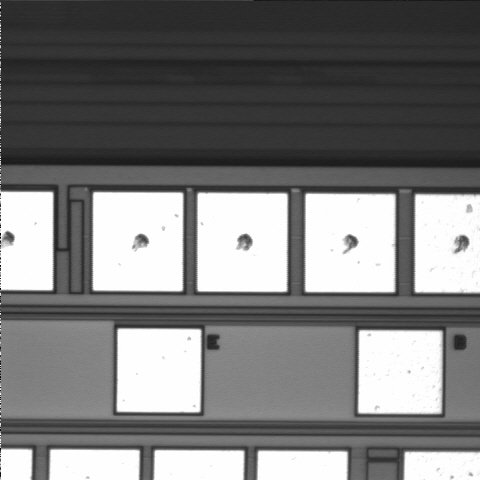pad: (93, 192, 183, 291), (305, 194, 395, 292), (198, 193, 287, 292), (358, 330, 442, 414), (117, 329, 201, 412)
